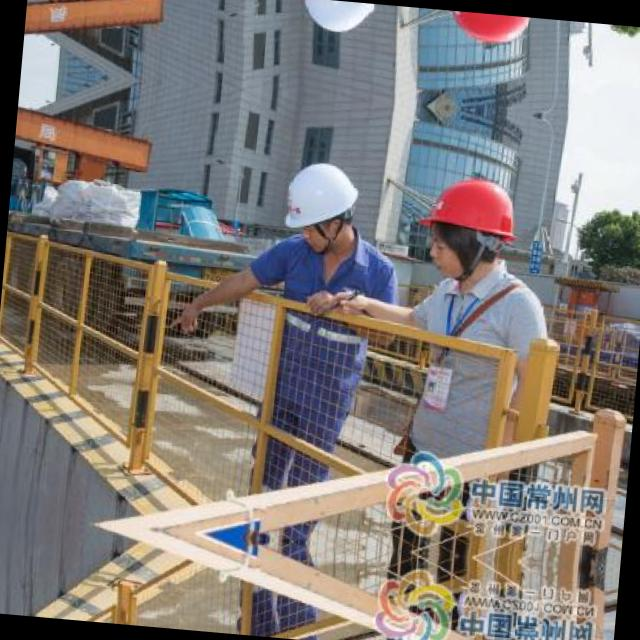helmet: (412, 160, 532, 290), (277, 151, 368, 255), (432, 8, 548, 62), (295, 0, 383, 44)
